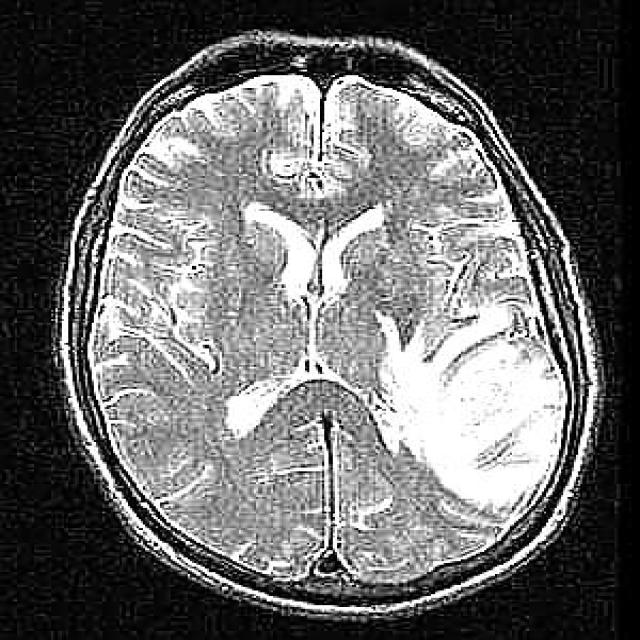Tumor-Cell: (368, 284, 567, 477)
